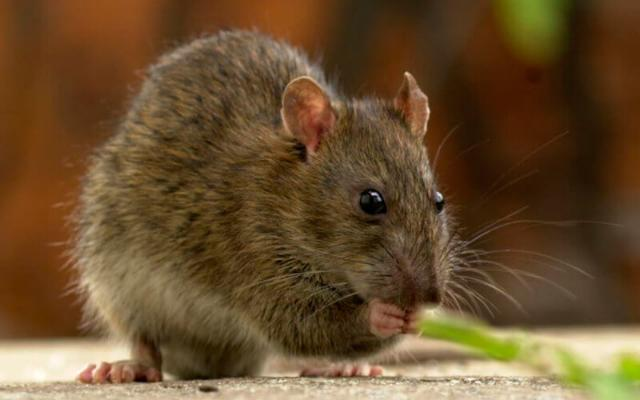rat: (47, 11, 509, 393)
